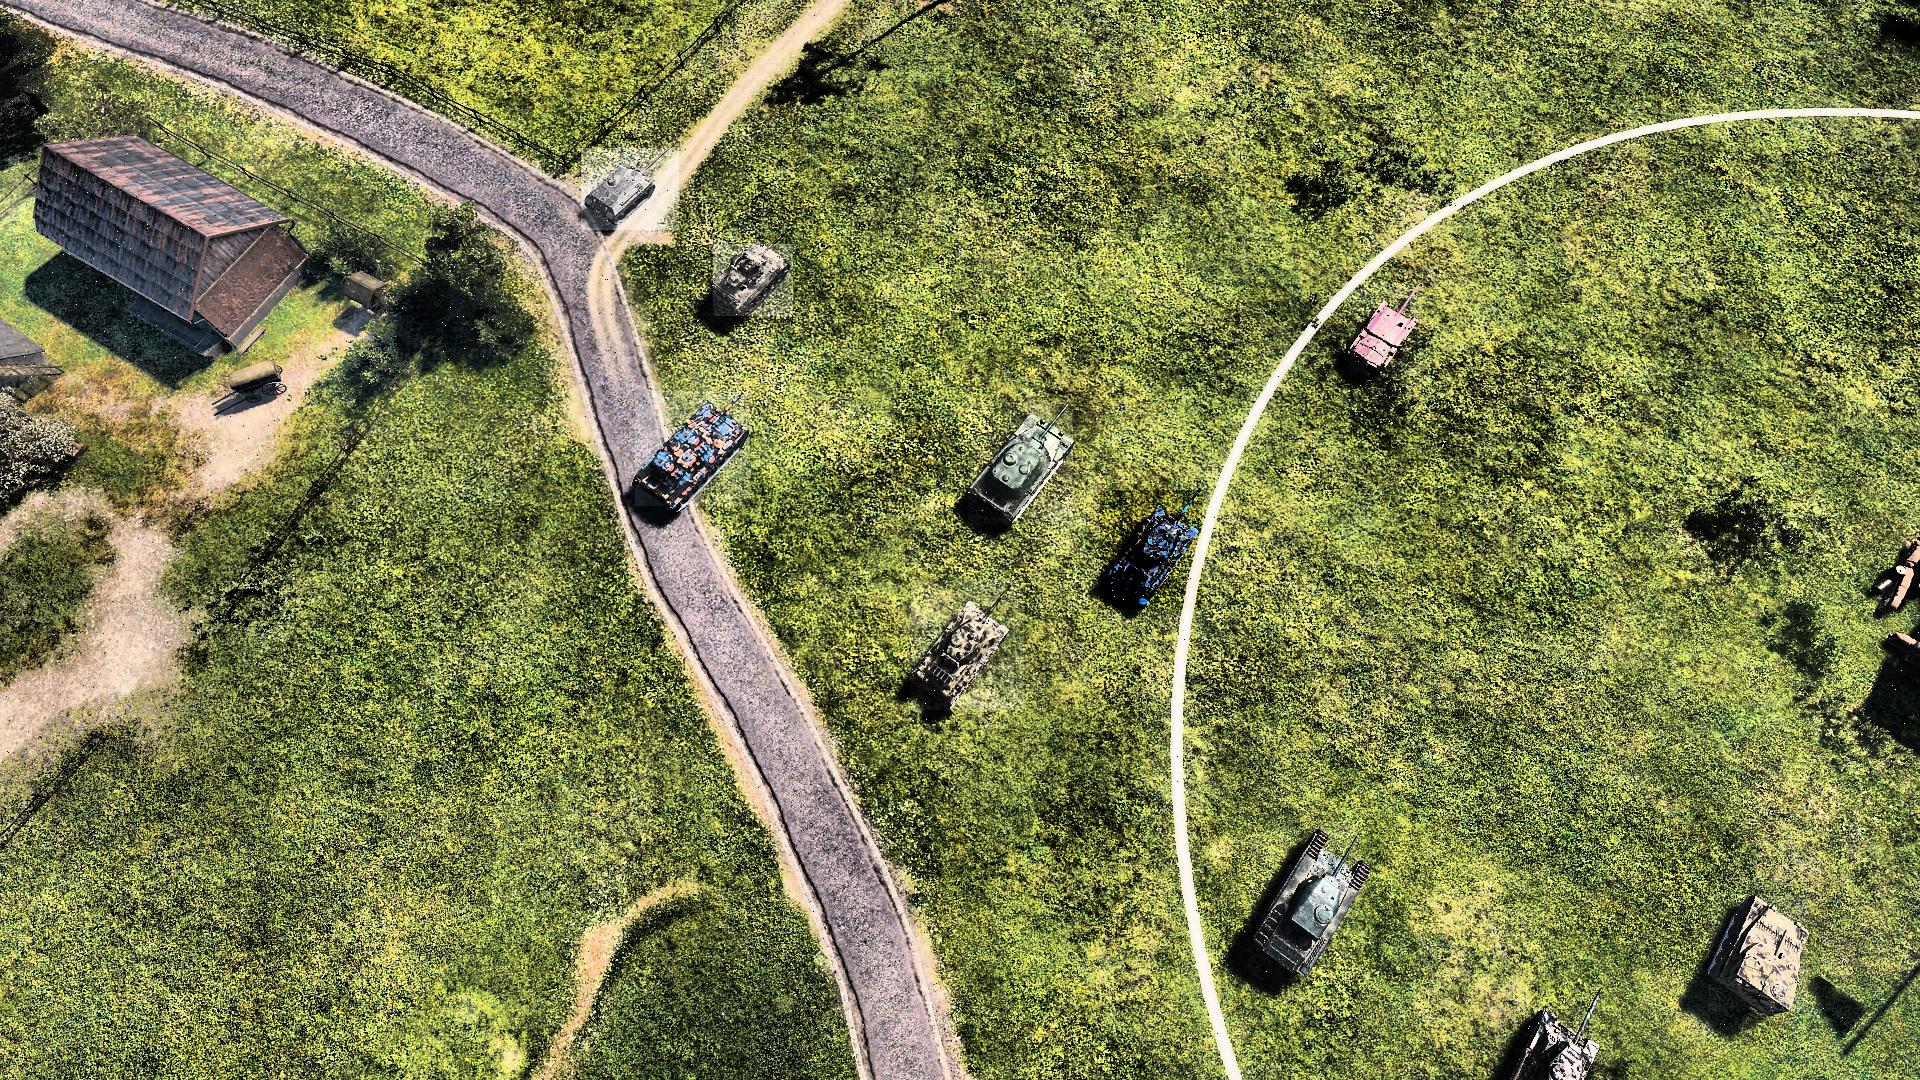military-vehicle: (1249, 828, 1367, 980), (911, 580, 1025, 709), (968, 400, 1073, 525), (636, 392, 750, 506), (1100, 491, 1203, 611), (1708, 895, 1808, 1011), (582, 148, 680, 229), (1350, 284, 1422, 375), (713, 245, 794, 316)
